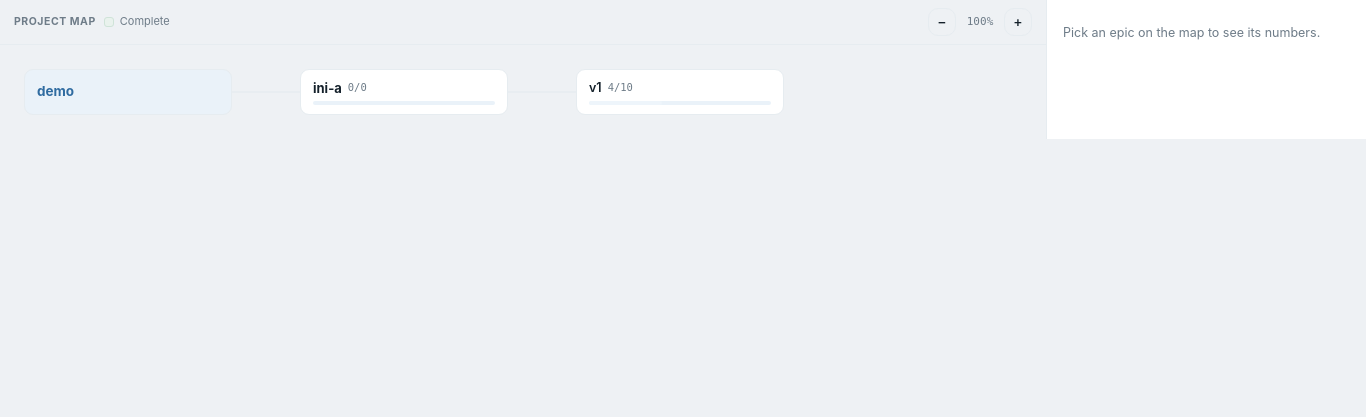
Test: Minimap › shows an epic its numbers when it is clicked
The width and height of the screenshot is (1366, 417).
Expected: the text "Pick an epic on the map to see its numbers." is shown, [1063,24,1350,42]
Click the text "v1" at (595, 88), box [589,79,602,97]
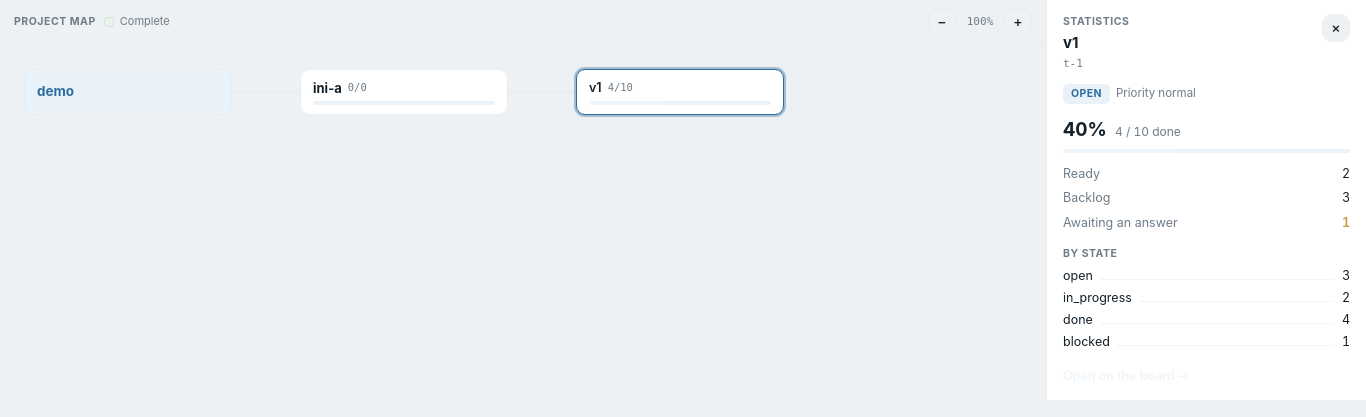
Expected: the text "Statistics" is shown, [1063,15,1129,28]
Expected: the text "40%" is shown, [1063,116,1107,143]
Expected: the text "4 / 10 done" is shown, [1115,123,1181,140]
